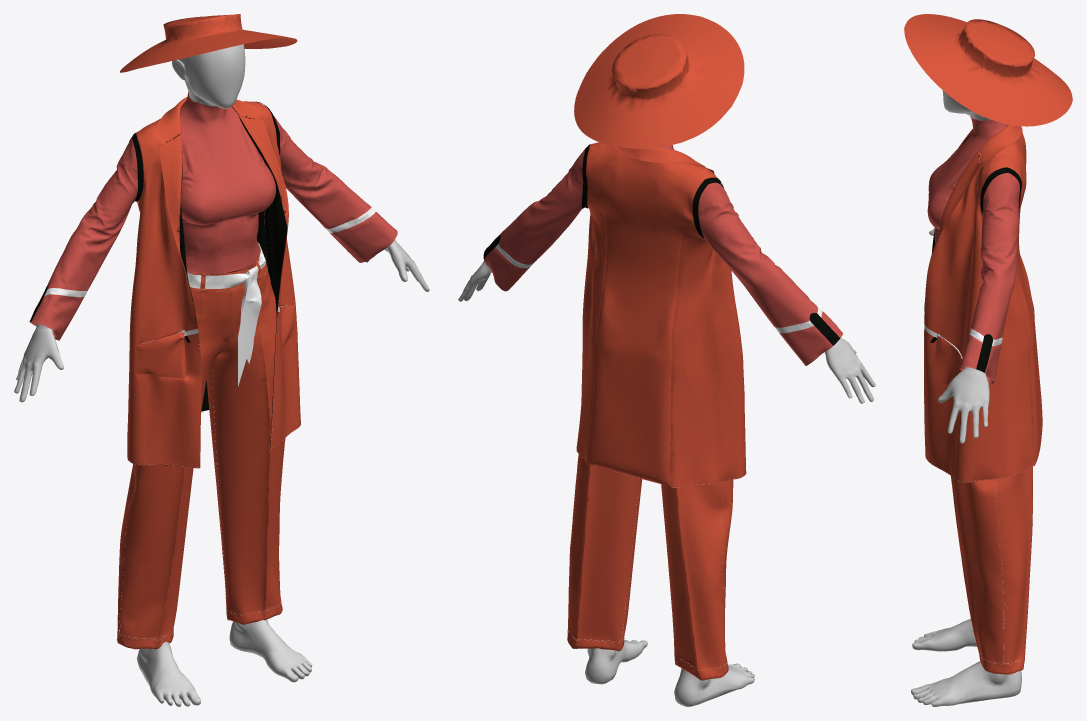
File: final_girl.glb
3 renders of one model, left to right at view 1: azimuth 30°, elevation 25°; view 2: azimuth 150°, elevation 25°; view 3: azimuth 270°, elevation 25°, orthographic. The views are drawn at different scales.
Visible parts, largest first — view 1: girl_full; view 2: girl_full; view 3: girl_full.
Part boxes in pixels (box(x1,y1,x2,y2)): girl_full: box(14, 14, 429, 706); girl_full: box(458, 14, 875, 706); girl_full: box(904, 14, 1072, 706).
Bounding box in the file's own units: 5.61 × 8.53 × 2.02.
4 materials, 4 textured.
